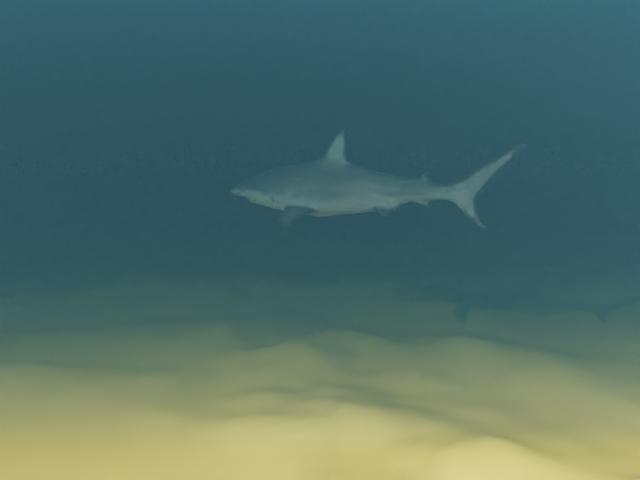Carribean Shark.001: (230, 128, 526, 230)
